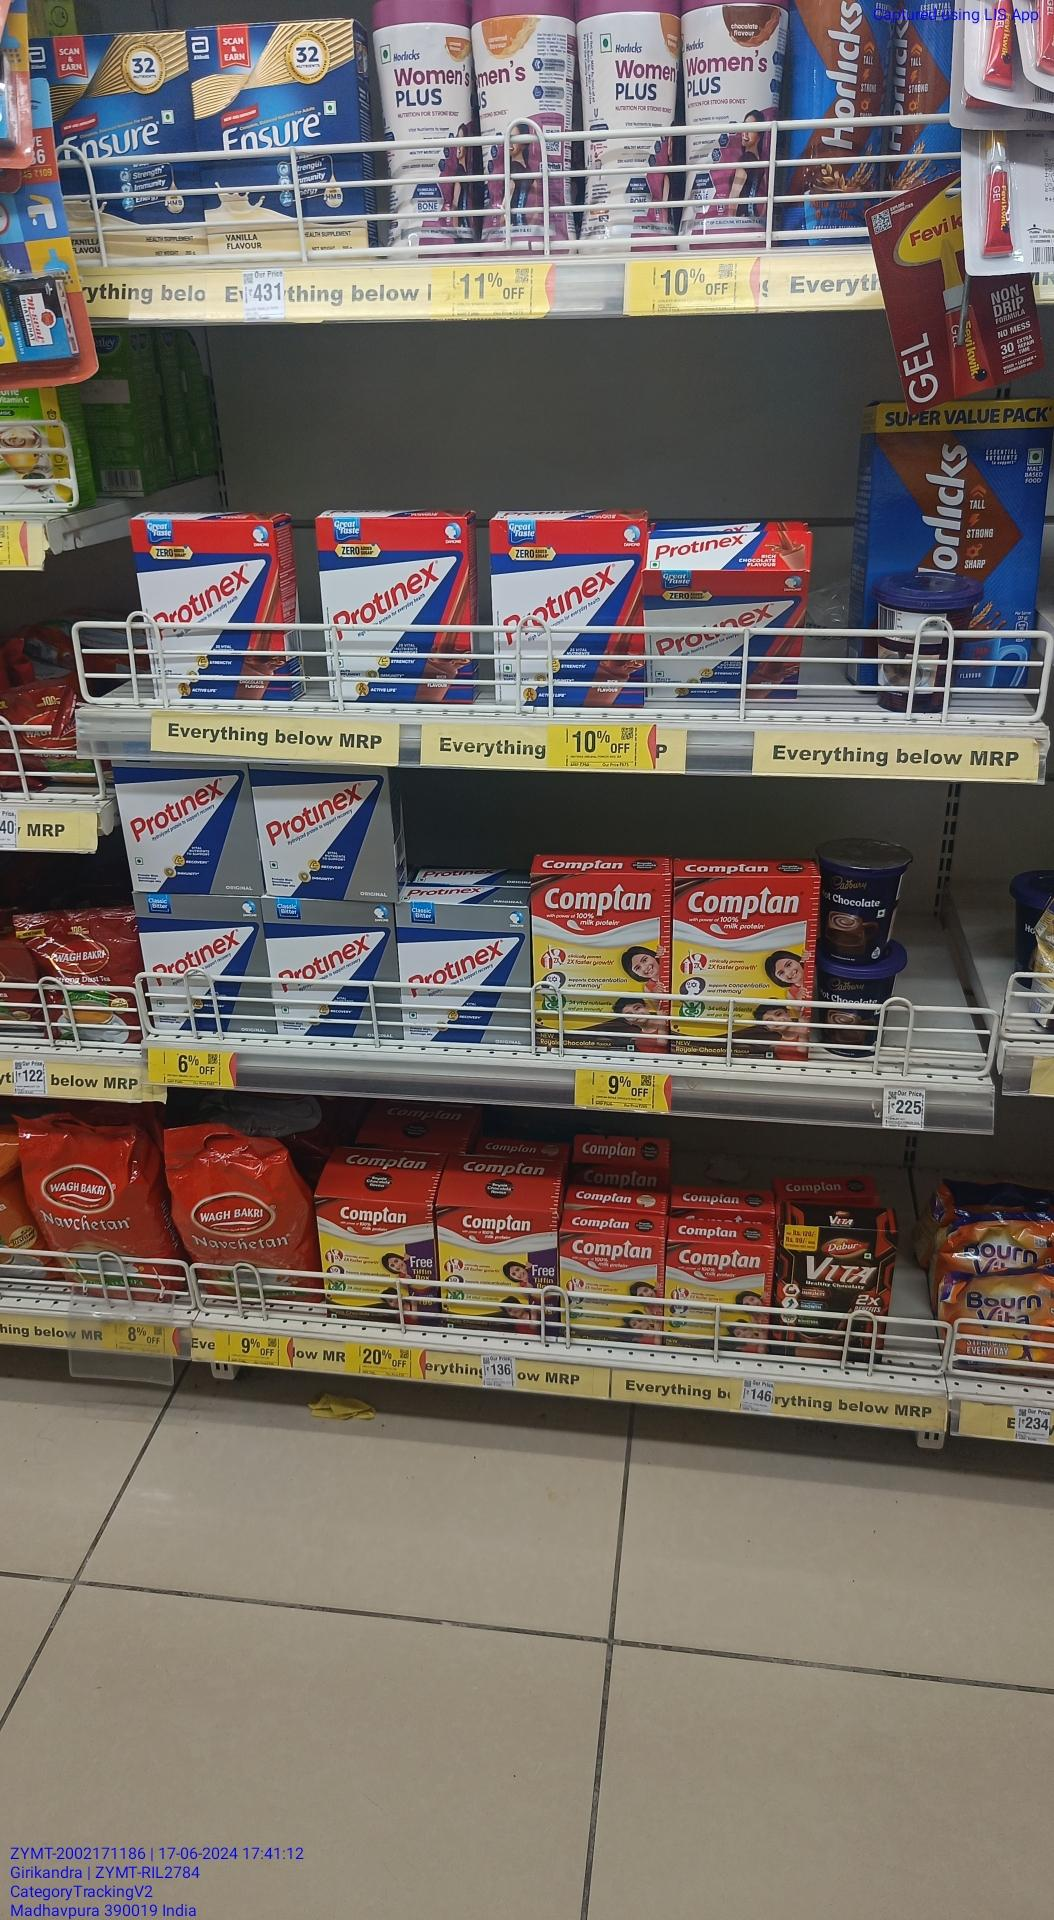COMPLAN_CHOCOLATE_200_GMS_PACK: (666, 1245, 770, 1354), (561, 1234, 661, 1341)
COMPLAN_CHOCOLATE_500_GMS_PACK: (674, 877, 816, 1057), (533, 876, 667, 1048), (436, 1209, 554, 1332), (321, 1205, 434, 1322)
ENSURE_VANILLA_400_G_PACK: (202, 29, 367, 256), (58, 43, 192, 262)
HORLICK_CHOCOLATE_1_KG_JAR: (788, 0, 884, 245)
